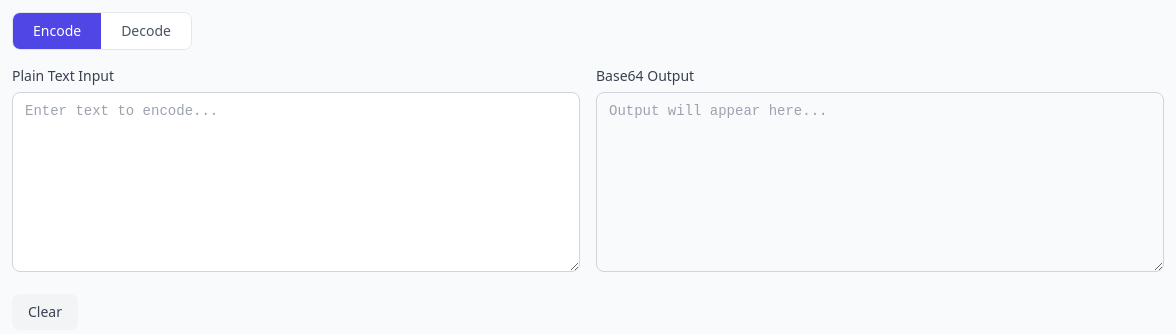
Scenario: Base64Tool › switching to Decode mode decodes Base64 input
Click the button "decode".
click(146, 31)  # box [101,13,191,49]
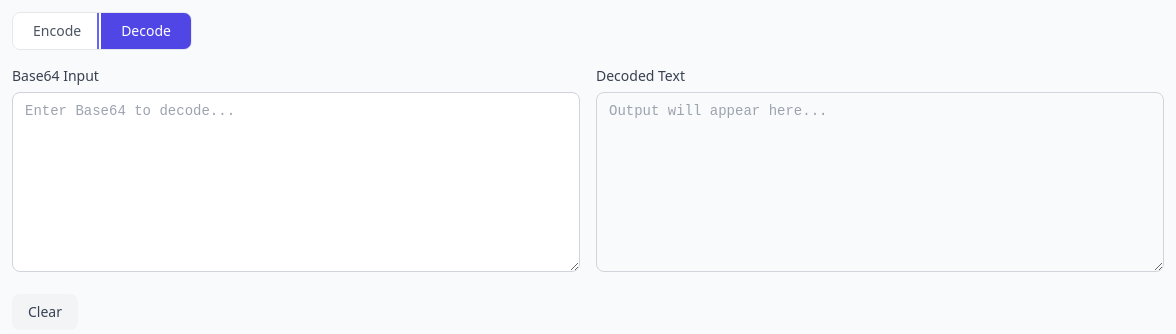
Expected: the text "Base64 Input" is shown, [12,66,99,85]
Type "aGVsbG8=" into the text box with placeholder "Enter Base64 to decode...".
click(296, 182); type("aGVsbG8=")  # box [12,92,580,272]
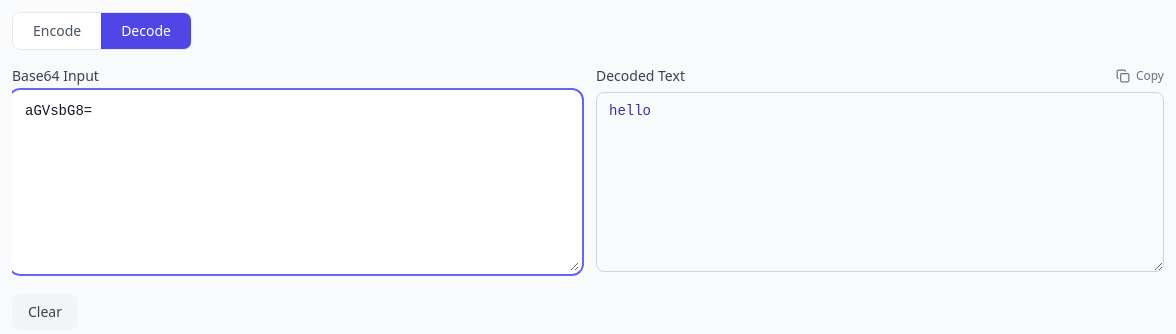
Expected: the text box with placeholder "Output will appear here..." below "Decoded Text" holds "hello", [596,92,1164,272]
